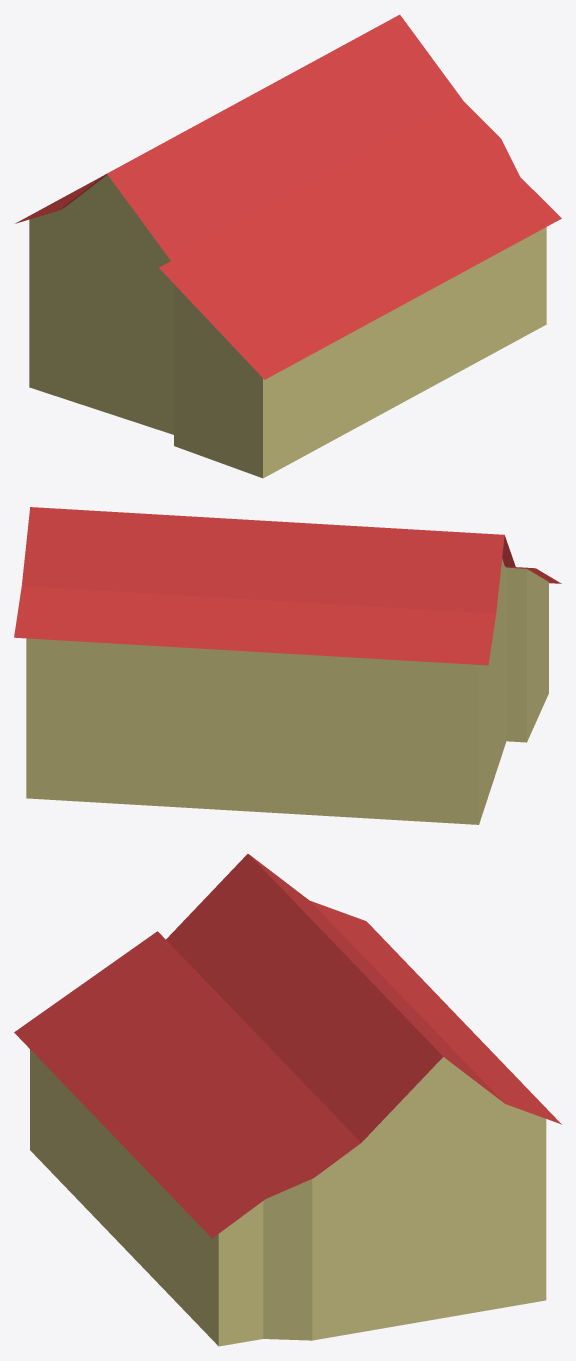
3 renders of one model, top to bottom at view 1: azimuth 30°, elevation 25°; view 2: azimuth 150°, elevation 25°; view 3: azimuth 270°, elevation 25°, orthographic. The views are drawn at different scales.
Size of the model in its own units: 37.5 by 34.29 by 18.41.
